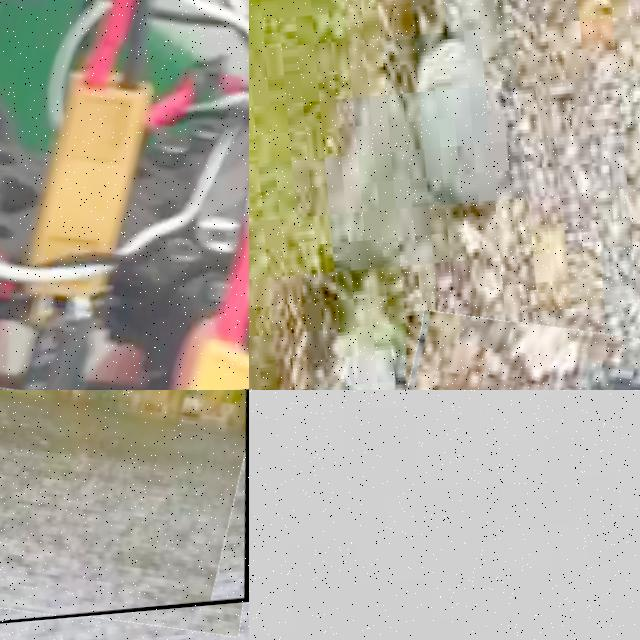drone: (0, 0, 249, 390), (0, 390, 249, 640), (390, 299, 640, 390)
